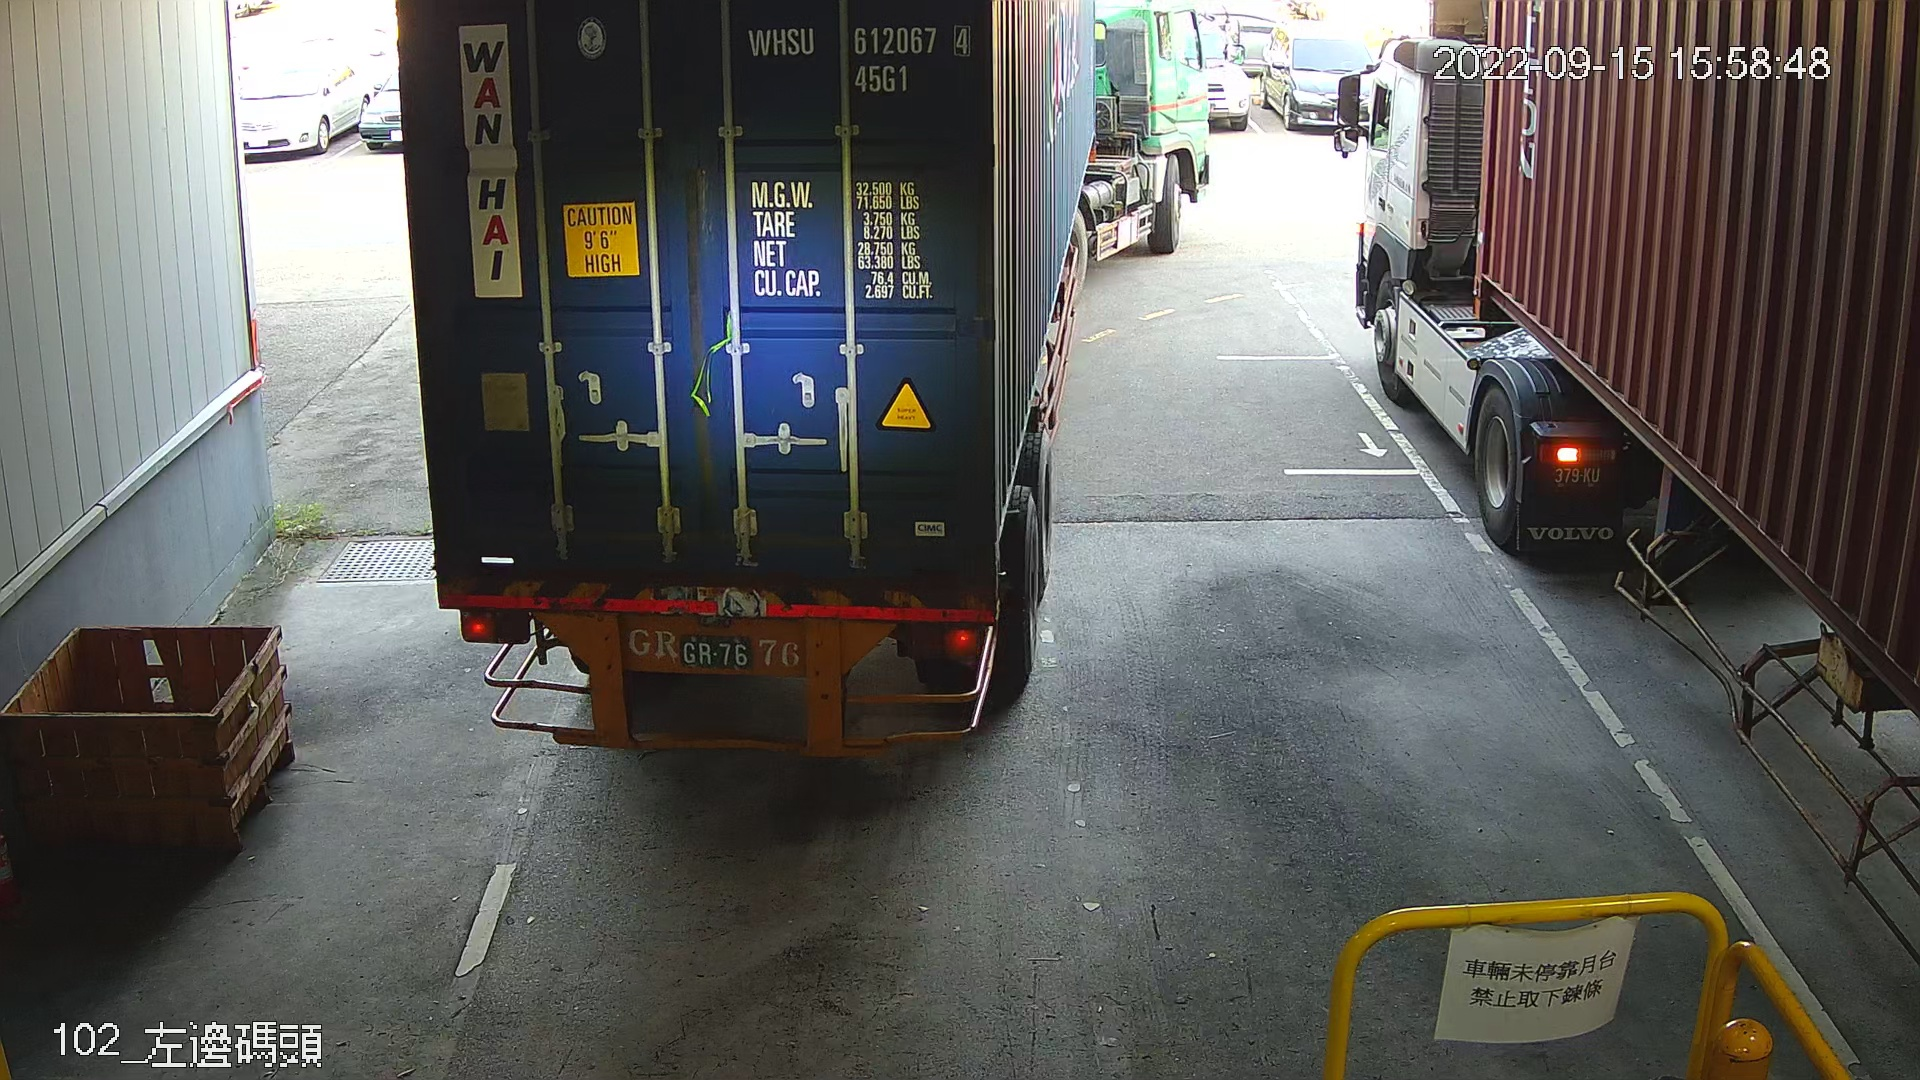container: (738, 11, 978, 102)
